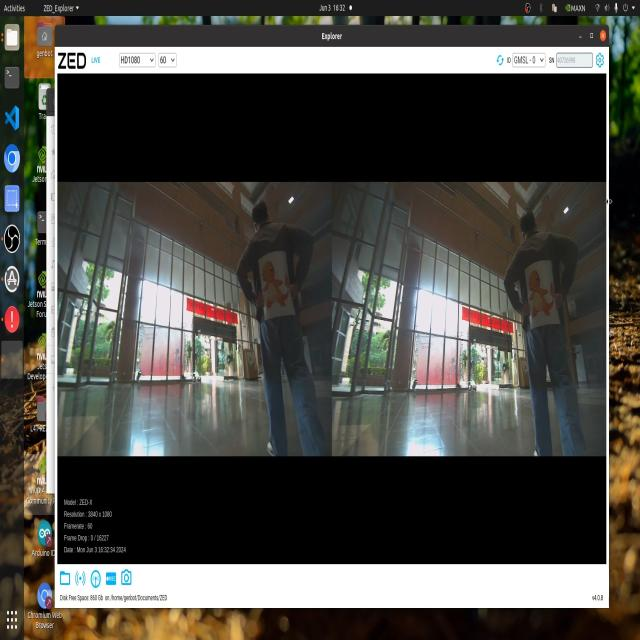red: (257, 251, 293, 318), (526, 269, 560, 325)
